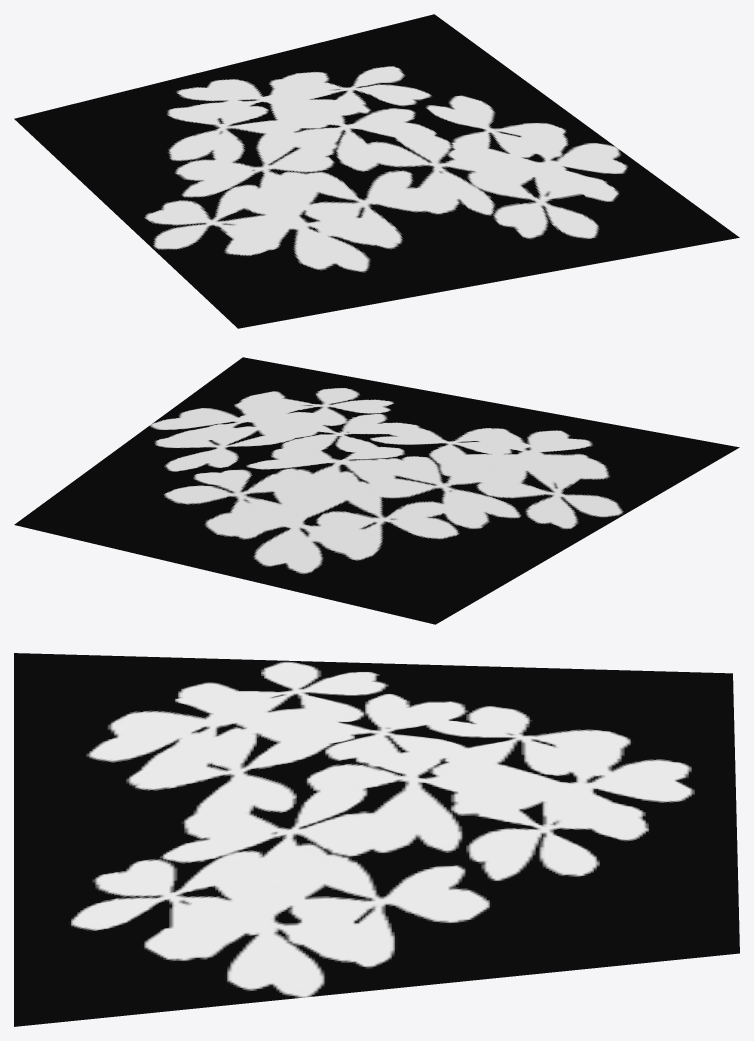
The model's file is SM_plantpack_A_LOD2.FBX.
3 renders of one model, top to bottom at view 1: azimuth 30°, elevation 25°; view 2: azimuth 150°, elevation 25°; view 3: azimuth 270°, elevation 25°, orthographic. The views are drawn at different scales.
Visible parts, largest first — view 1: SM_plantpack_A_LOD2; view 2: SM_plantpack_A_LOD2; view 3: SM_plantpack_A_LOD2.
Boxes of the visible parts, x1=… form: SM_plantpack_A_LOD2: x1=14, y1=14, x2=739, y2=328; SM_plantpack_A_LOD2: x1=14, y1=357, x2=739, y2=624; SM_plantpack_A_LOD2: x1=14, y1=653, x2=739, y2=1026.
Bounding box in the file's own units: 417 × 50.29 × 386.
1 material, 1 textured.
